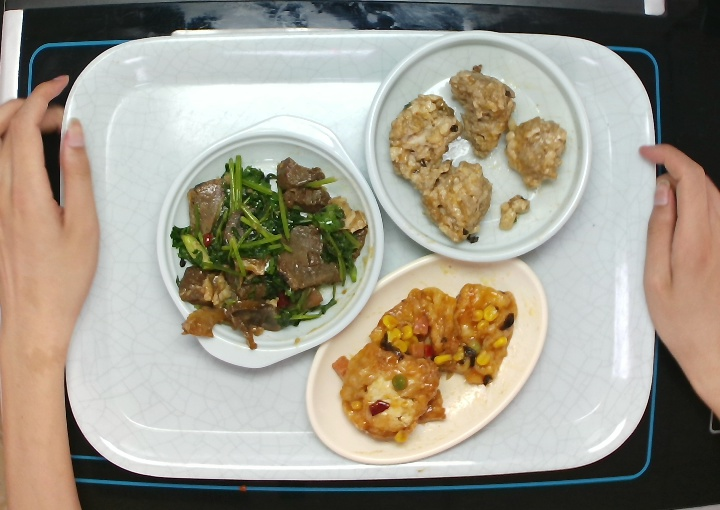JYsf-Shuang_Er_Pan: (154, 116, 386, 378)
JYsf-Tuo_Yuan_Wan: (301, 246, 551, 461)
JYsf-Xiao_Yuan_Pan: (366, 37, 598, 265)
